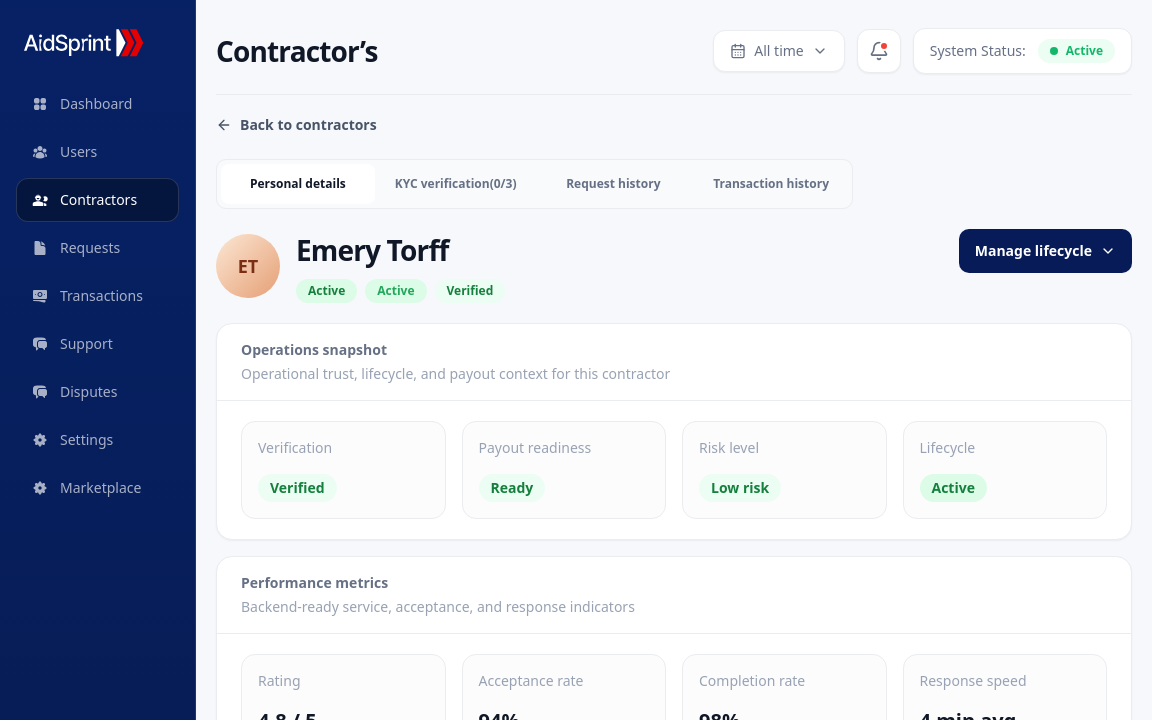
ContractorsPage › opens contractor transaction details and updates the selected transaction status
The image size is (1152, 720).
What coordinates should you click on to do the following:
click the tab "Transaction history"
I would click on:
 (771, 184)
Its box is [694,164,848,204].
(page scrolled)
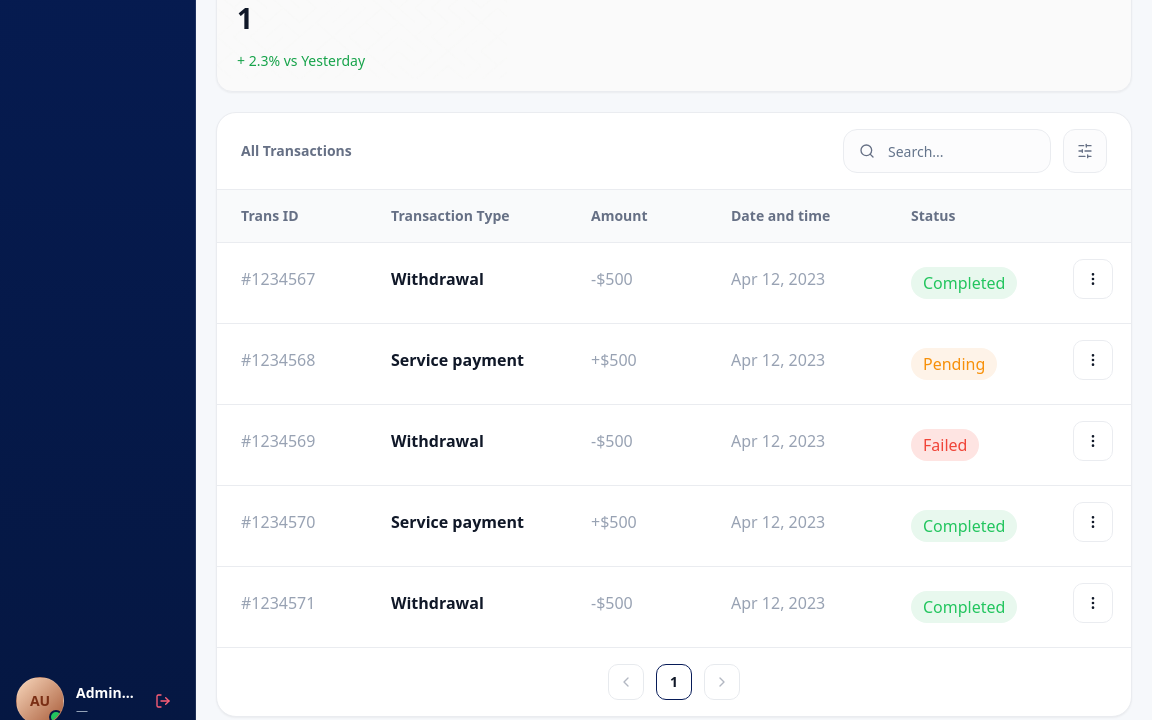
Expected: the text "All Transactions" is shown, [241,141,352,161]
What coordinates should you click on to do the following:
click the button named "Open transaction details for #1234568"
I would click on:
 (1093, 360)
Its box is [1073,340,1113,380].
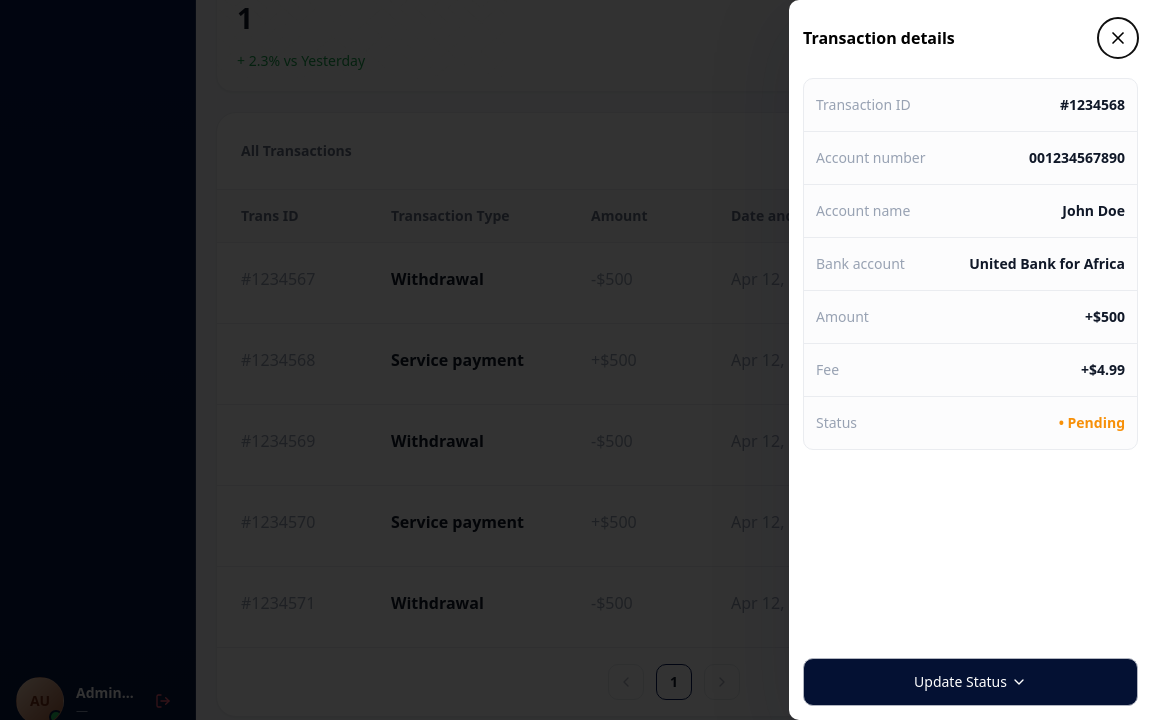
Expected: the text "001234567890" is shown, [1029,148,1125,168]
Expected: the text "• Pending" is shown, [1059,413,1125,433]
What coordinates should you click on to do the following:
click the button "Update Status"
I would click on:
 (970, 682)
Its box is [803,658,1138,706].
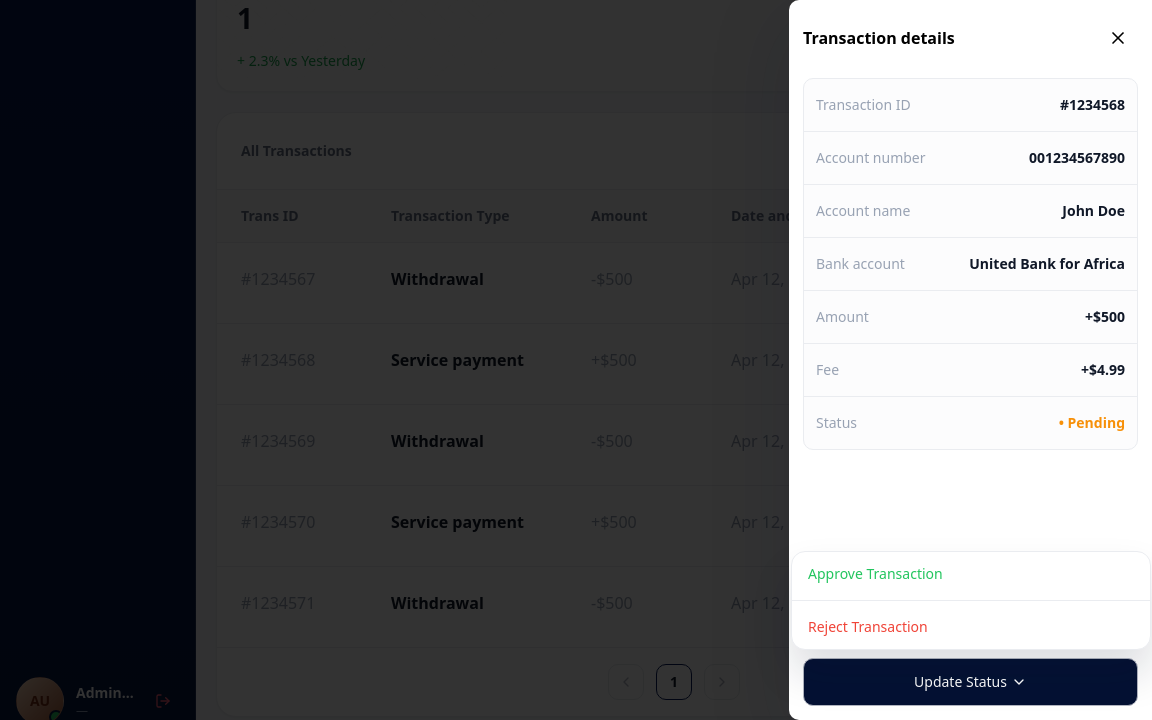
What coordinates should you click on to do the following:
click the menu item "Approve Transaction"
I would click on:
 (875, 574)
Its box is [808,564,943,583].
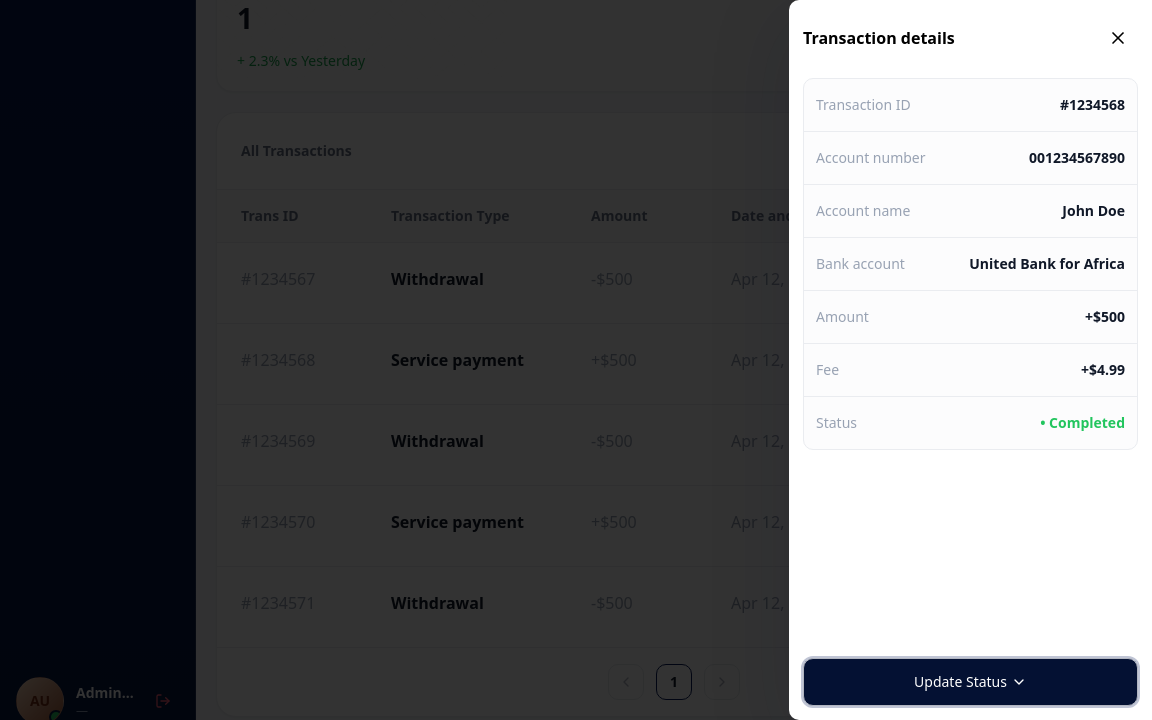
Expected: the text "Completed" is shown, [911,267,1017,299]
Expected: the text "• Completed" is shown, [1040,413,1125,433]
